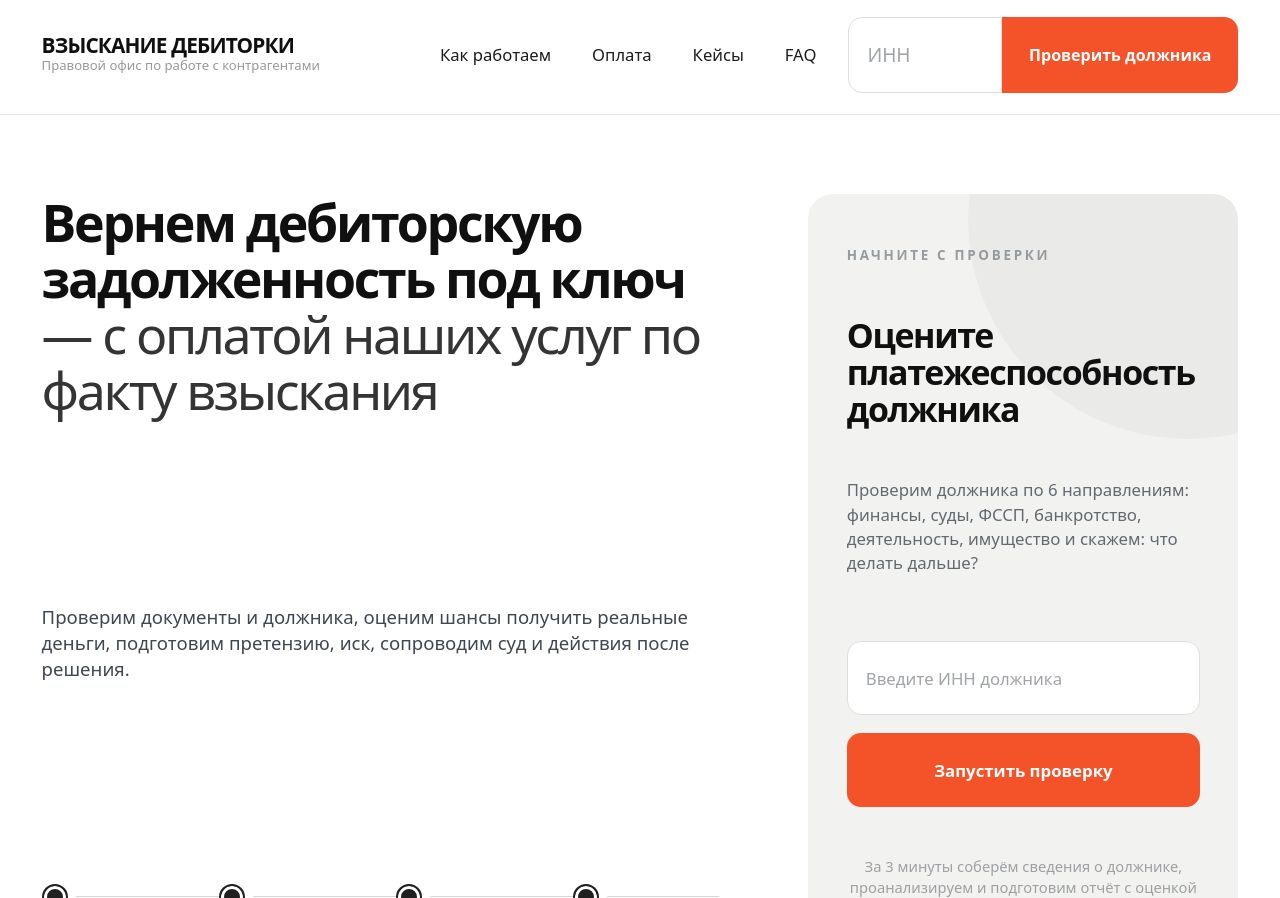
Test: CompanyLandingPage › shares one INN value and fences double submit before full-document navigation
Step 1. Type "7700 000 000" into the field named "ИНН компании" → point(925, 54), box [848,16,1002,92]
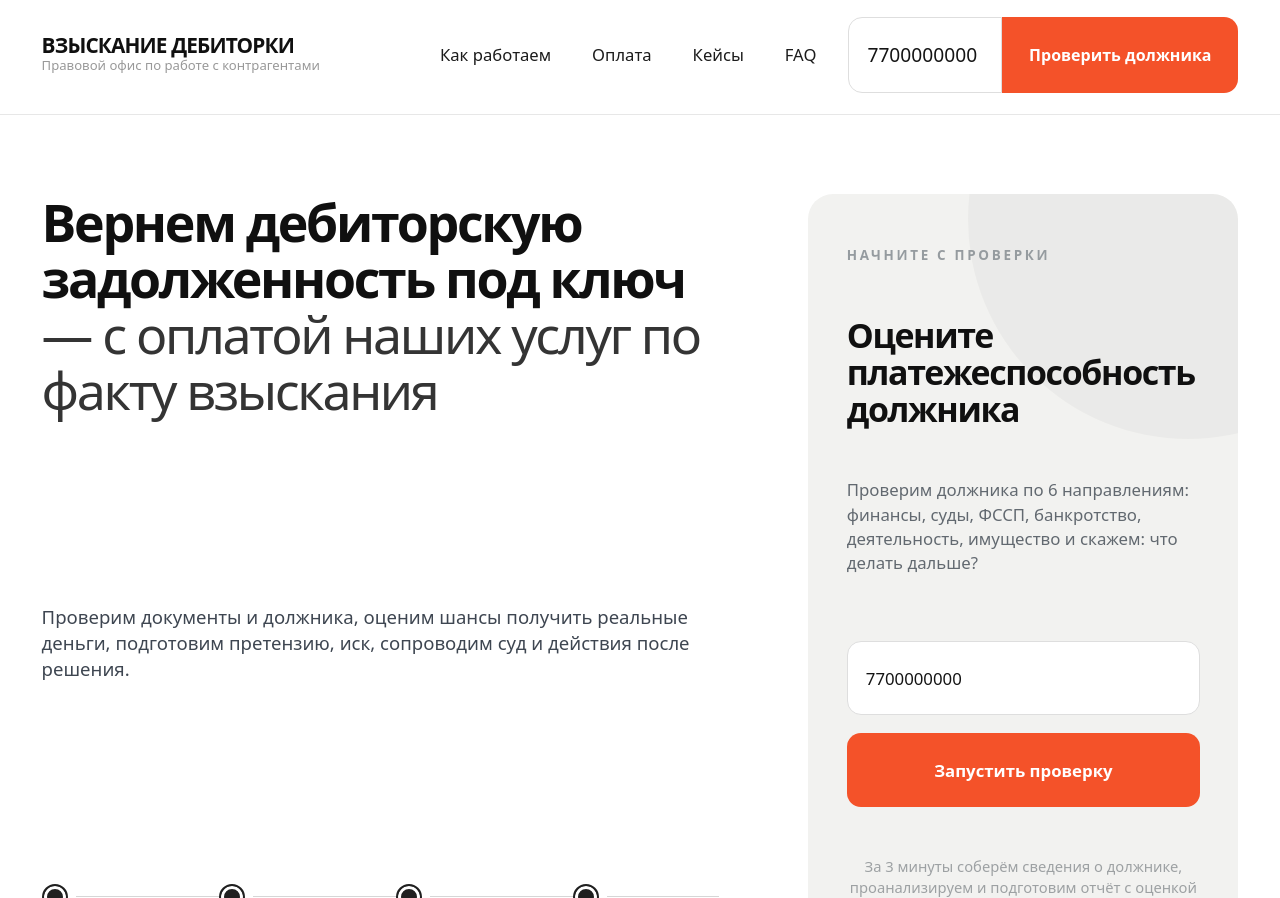
Expected: the field named "ИНН компании" below "Оцените платежеспособность должника" holds "7700000000", [847,641,1200,715]
Step 2. Submit the form named "ИНН компании", box [847,641,1200,830]
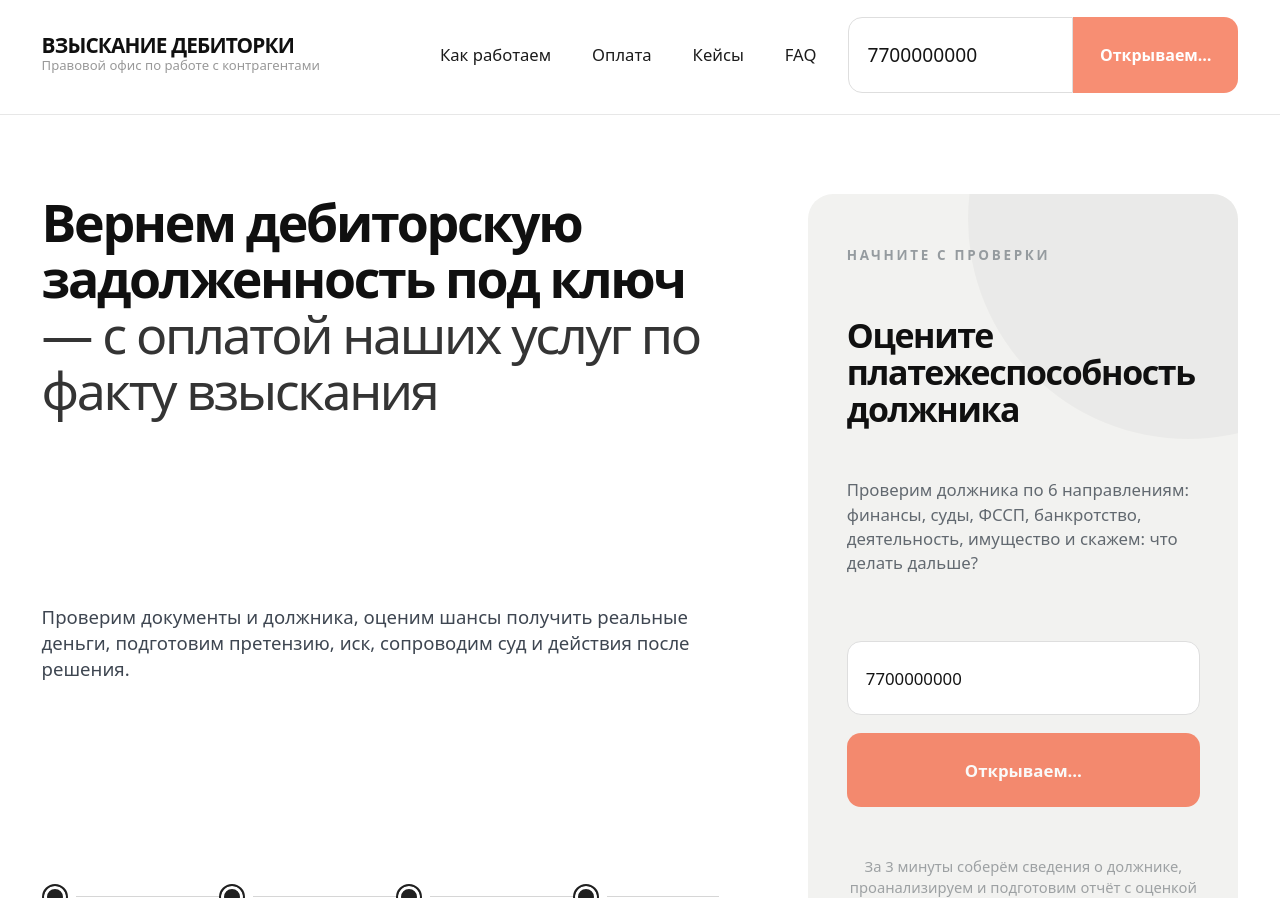
Expected: the field named "ИНН компании" next to "FAQ" is disabled, [848,16,1073,92]
